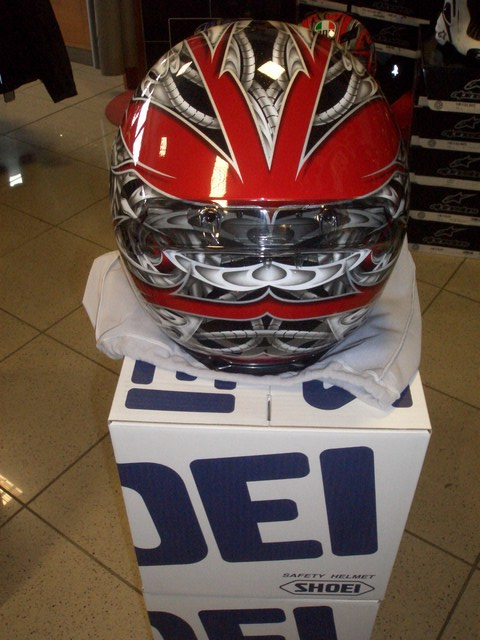helmet: (104, 21, 416, 379)
